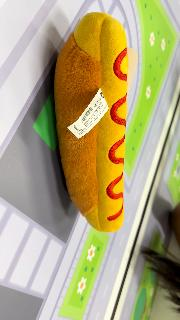hotdog: (53, 11, 129, 233)
